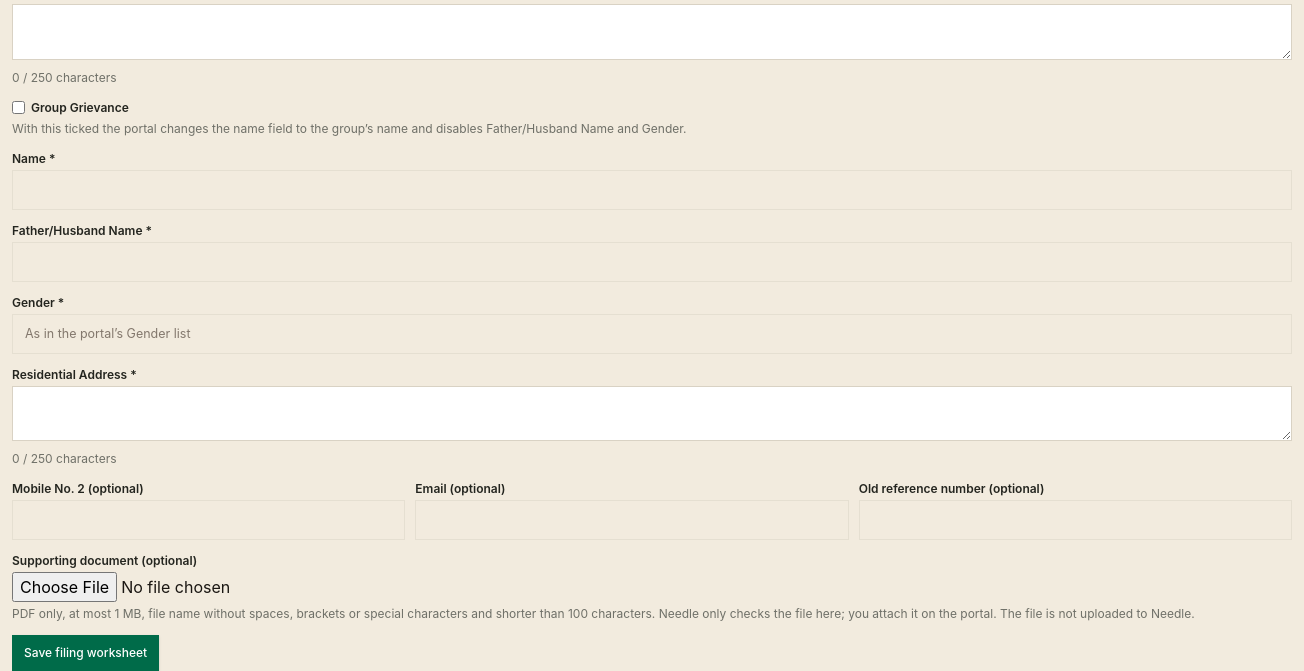
DelhiFilingWorksheet › shows server-side errors, warnings and the special-character notice, and does not say ready
(page scrolled)
Click the button "Save filing worksheet".
click(86, 653)  # box [12,635,159,670]
(page scrolled)
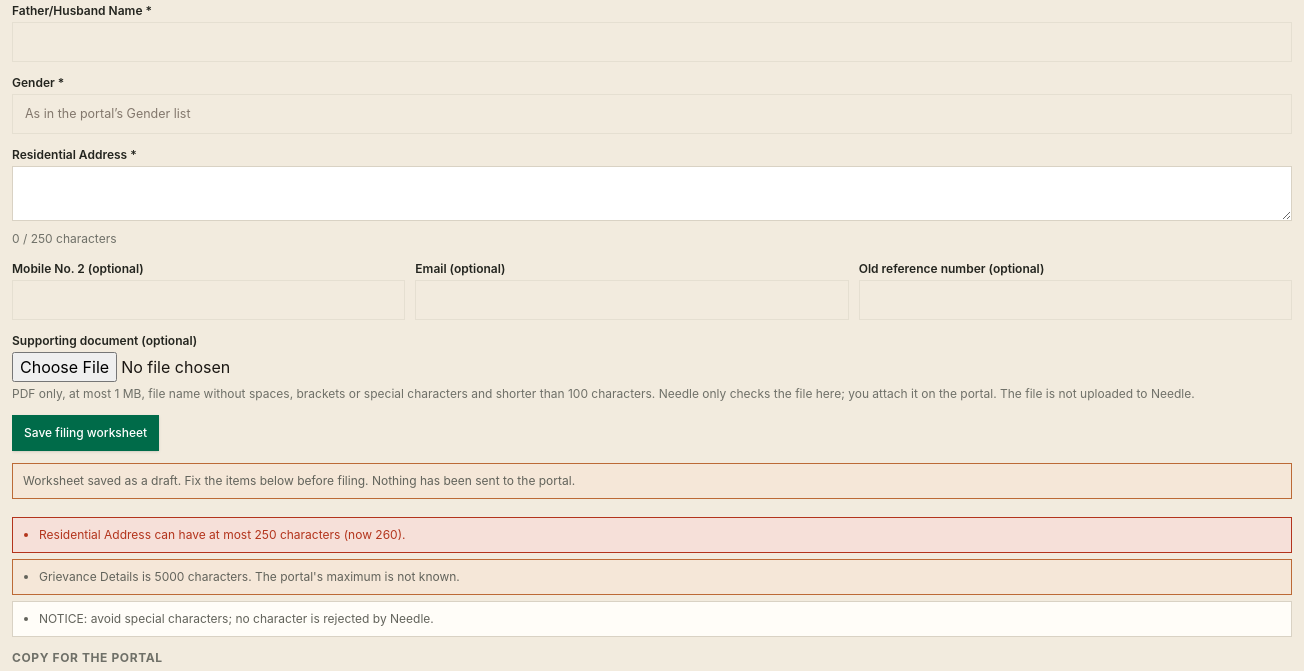
Expected: the element with test id "delhi-fw-validation" is shown, [12,511,1292,637]
Expected: the list with test id "delhi-fw-errors" shows "at most 250", [39,527,406,542]
Expected: the list with test id "delhi-fw-warnings" shows "maximum is not known", [39,569,460,584]
